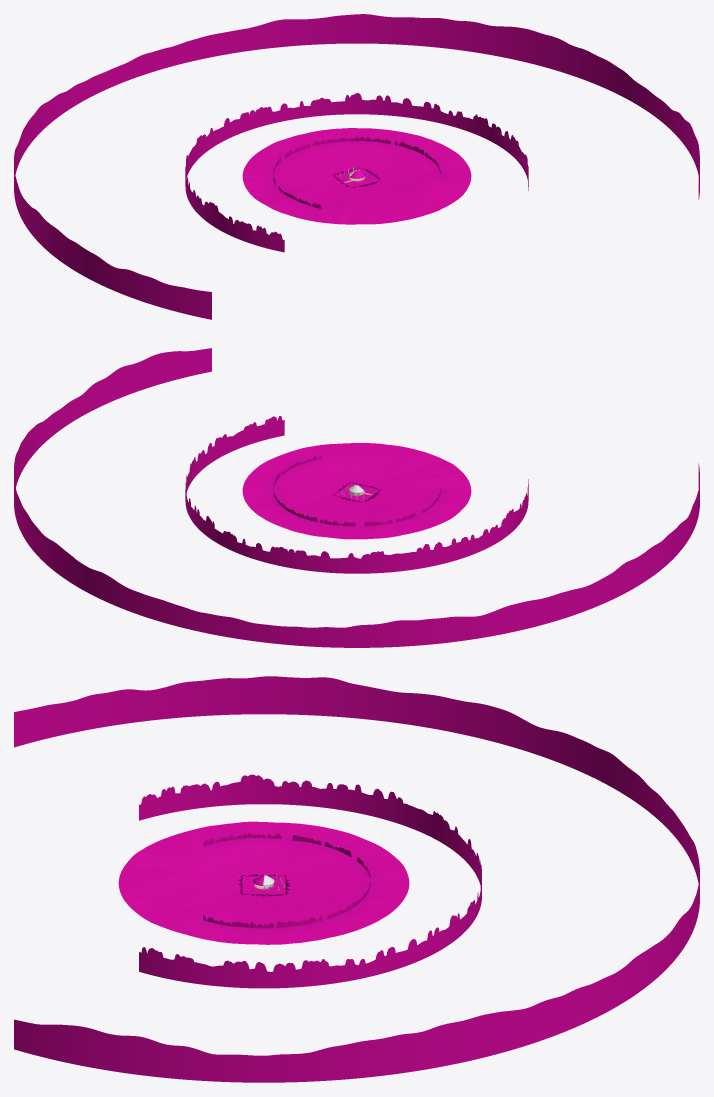
File: court_set_shelter.glb
3 renders of one model, top to bottom at view 1: azimuth 30°, elevation 25°; view 2: azimuth 150°, elevation 25°; view 3: azimuth 270°, elevation 25°, orthographic. The views are drawn at different scales.
Visible parts, largest first — view 1: Far2, Ground, Far1, Far0; view 2: Far2, Ground, Far1, Far0; view 3: Far2, Ground, Far1, Far0.
Part boxes in pixels (x1=…): Far2: x1=14, y1=14, x2=699, y2=319; Ground: x1=242, y1=128, x2=471, y2=224; Far1: x1=185, y1=93, x2=528, y2=252; Far0: x1=273, y1=137, x2=440, y2=208; Far2: x1=14, y1=348, x2=699, y2=647; Ground: x1=242, y1=443, x2=471, y2=539; Far1: x1=185, y1=416, x2=528, y2=573; Far0: x1=273, y1=454, x2=440, y2=526; Far2: x1=14, y1=676, x2=699, y2=1082; Ground: x1=118, y1=821, x2=409, y2=944; Far1: x1=139, y1=774, x2=481, y2=988; Far0: x1=203, y1=833, x2=370, y2=928.
Size of the model in its own units: 360 by 19.48 by 283.
